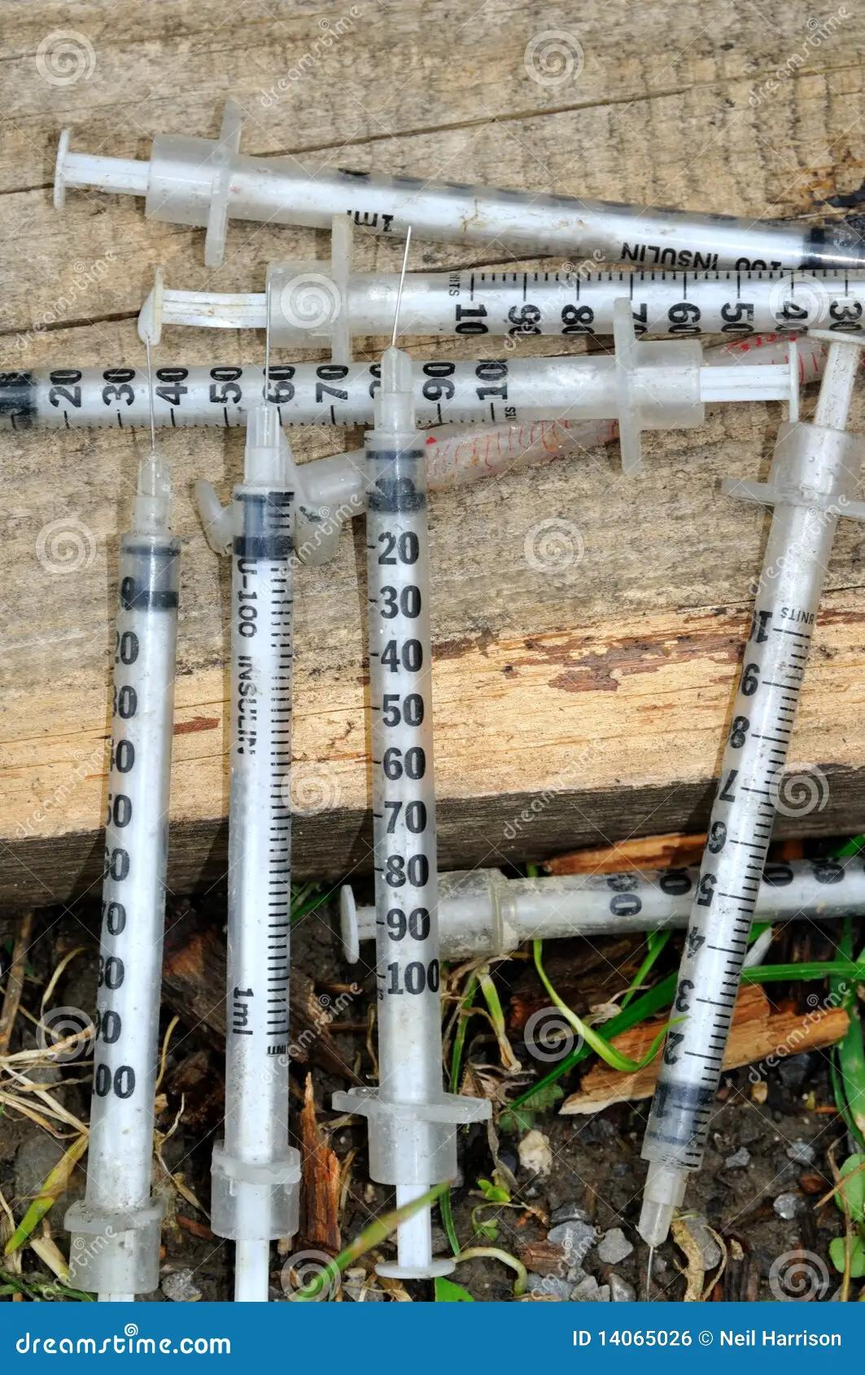Syringe: (639, 334, 864, 1246), (55, 102, 864, 269), (333, 346, 490, 1205), (65, 431, 179, 1300), (211, 399, 299, 1300), (408, 299, 789, 470), (402, 269, 864, 338), (438, 867, 699, 959), (413, 355, 618, 425)
